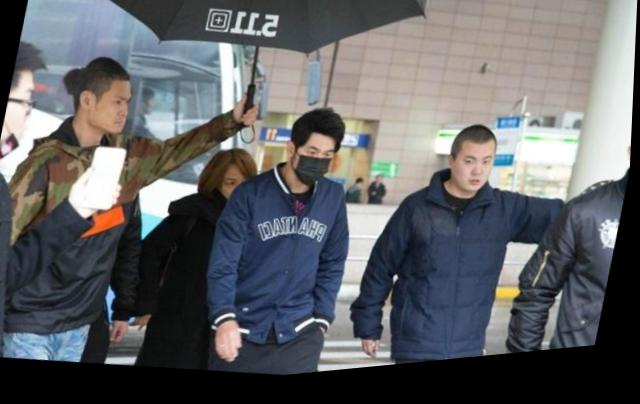NONE: (87, 89, 135, 139), (452, 155, 498, 206), (216, 173, 254, 217)
OK: (296, 145, 340, 191)
WRONG: (1, 90, 38, 162)
